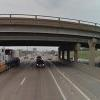Bridge: (3, 5, 95, 53)
